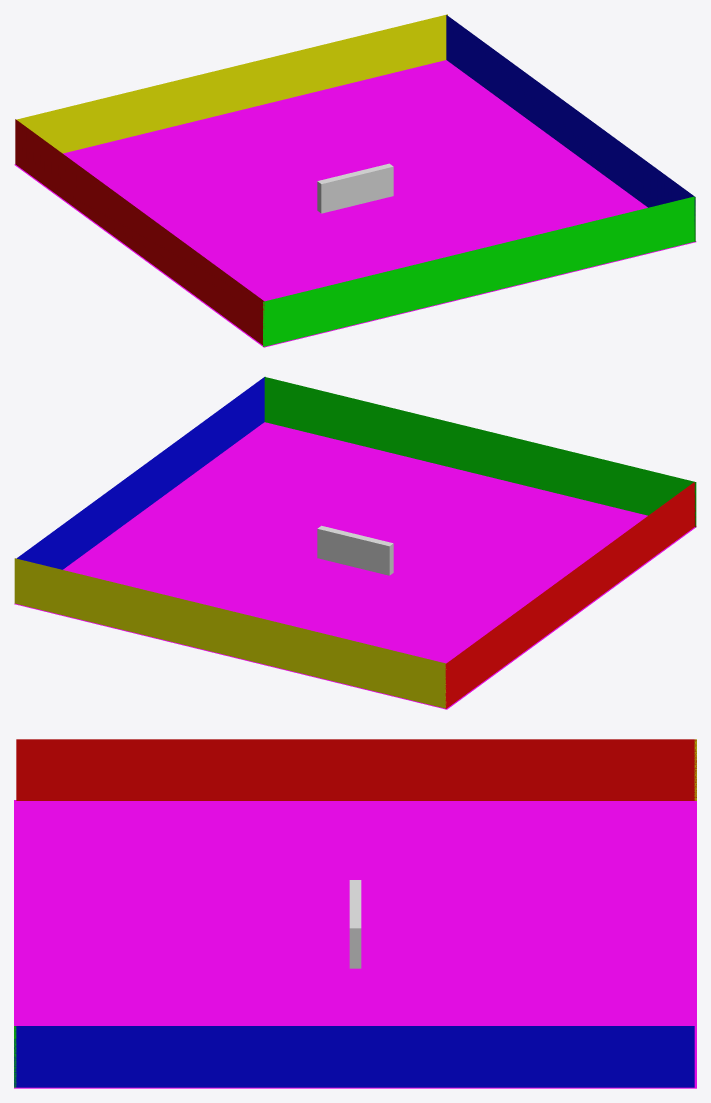
Rendered from TestStageCollision.fbx.
3 renders of one model, top to bottom at view 1: azimuth 30°, elevation 25°; view 2: azimuth 150°, elevation 25°; view 3: azimuth 270°, elevation 25°, orthographic. The views are drawn at different scales.
Parts seen in each view (by area): view 1: Cube, 立方体.001, 立方体, 立方体.003, 立方体.002, 立方体.004; view 2: Cube, 立方体, 立方体.001, 立方体.003, 立方体.002, 立方体.004; view 3: Cube, 立方体.003, 立方体.002, 立方体.004.
Part boxes in pixels (x1,y1,x2,y2): Cube: [14, 60, 696, 347]; 立方体.001: [263, 196, 695, 346]; 立方体: [16, 14, 447, 153]; 立方体.003: [15, 119, 264, 345]; 立方体.002: [446, 15, 695, 224]; 立方体.004: [317, 163, 393, 213]; Cube: [14, 422, 696, 709]; 立方体: [14, 558, 446, 708]; 立方体.001: [264, 376, 696, 527]; 立方体.003: [445, 482, 696, 708]; 立方体.002: [16, 377, 264, 569]; 立方体.004: [317, 525, 393, 575]; Cube: [14, 800, 696, 1088]; 立方体.003: [16, 739, 696, 800]; 立方体.002: [14, 1026, 694, 1087]; 立方体.004: [349, 880, 361, 968].
Bounding box in the file's own units: 600 × 61 × 600.
